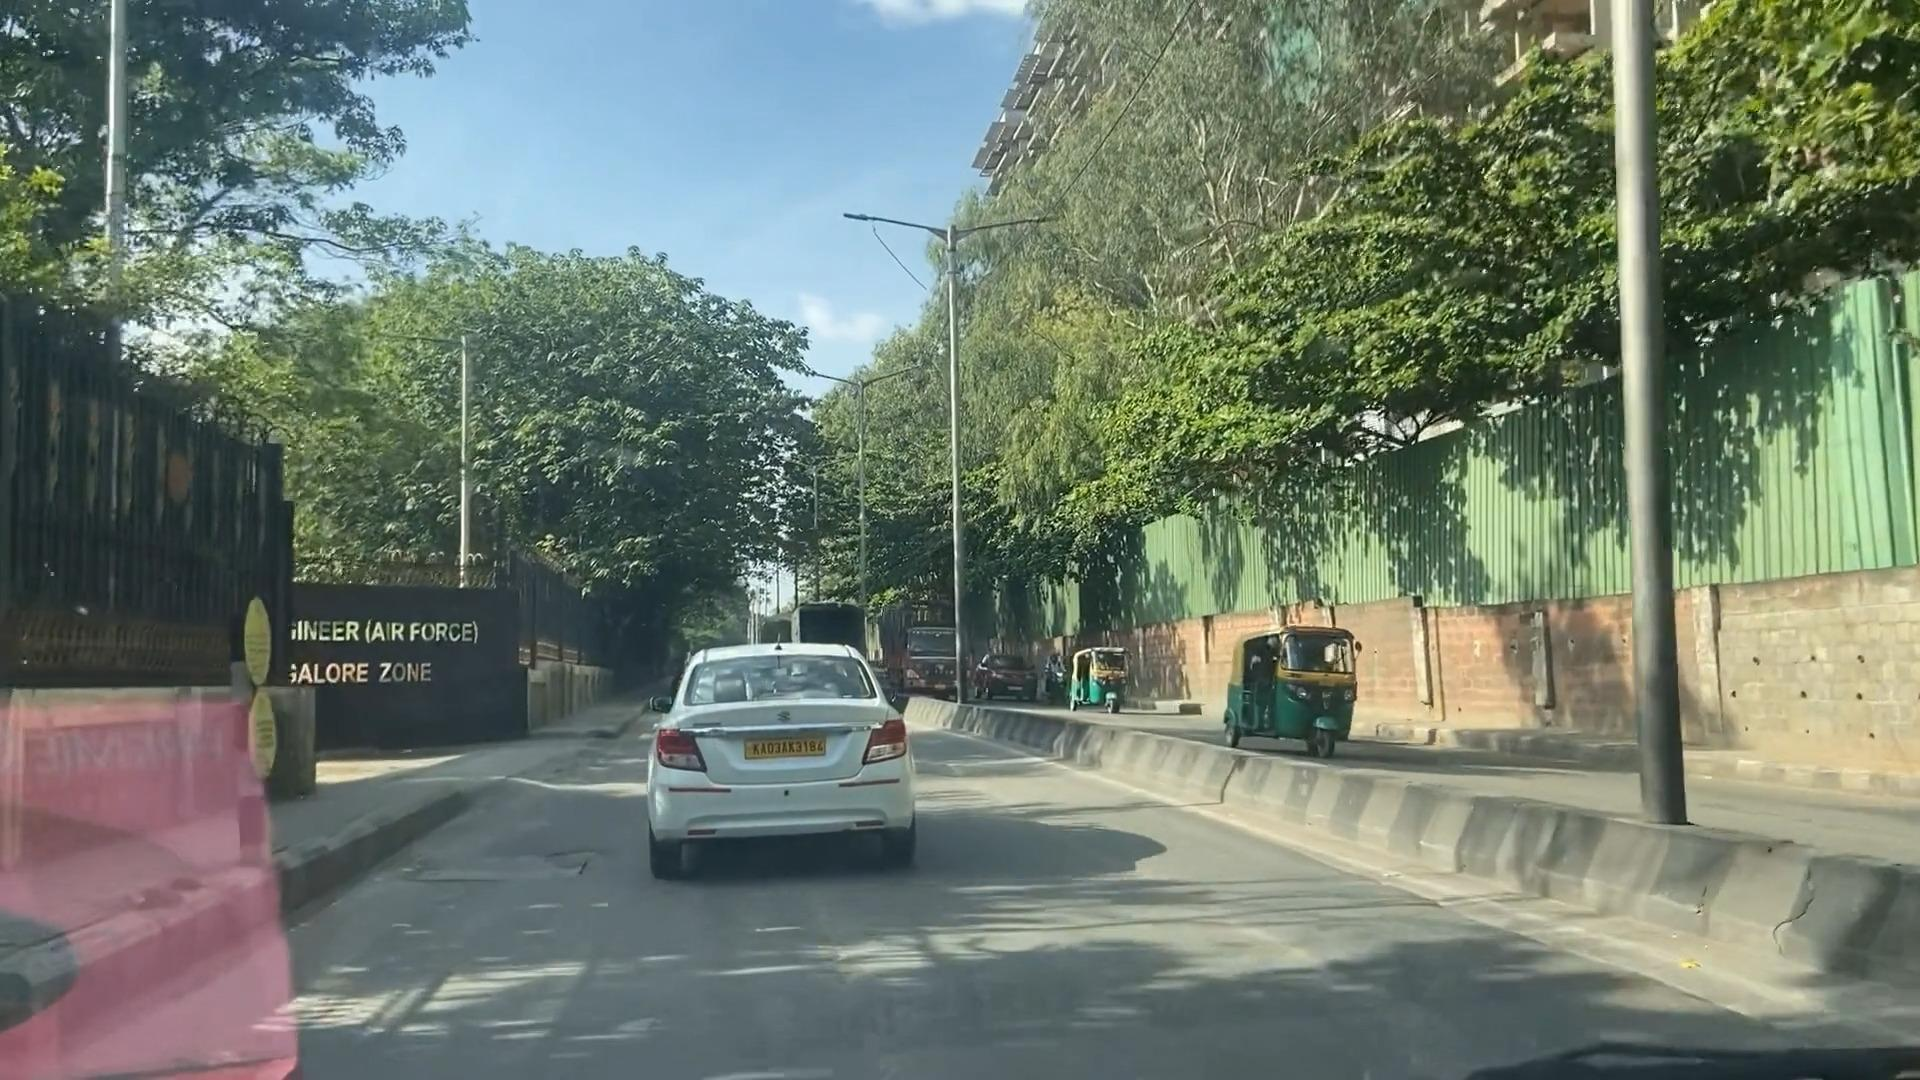RoadDamages: (402, 819, 596, 926)
